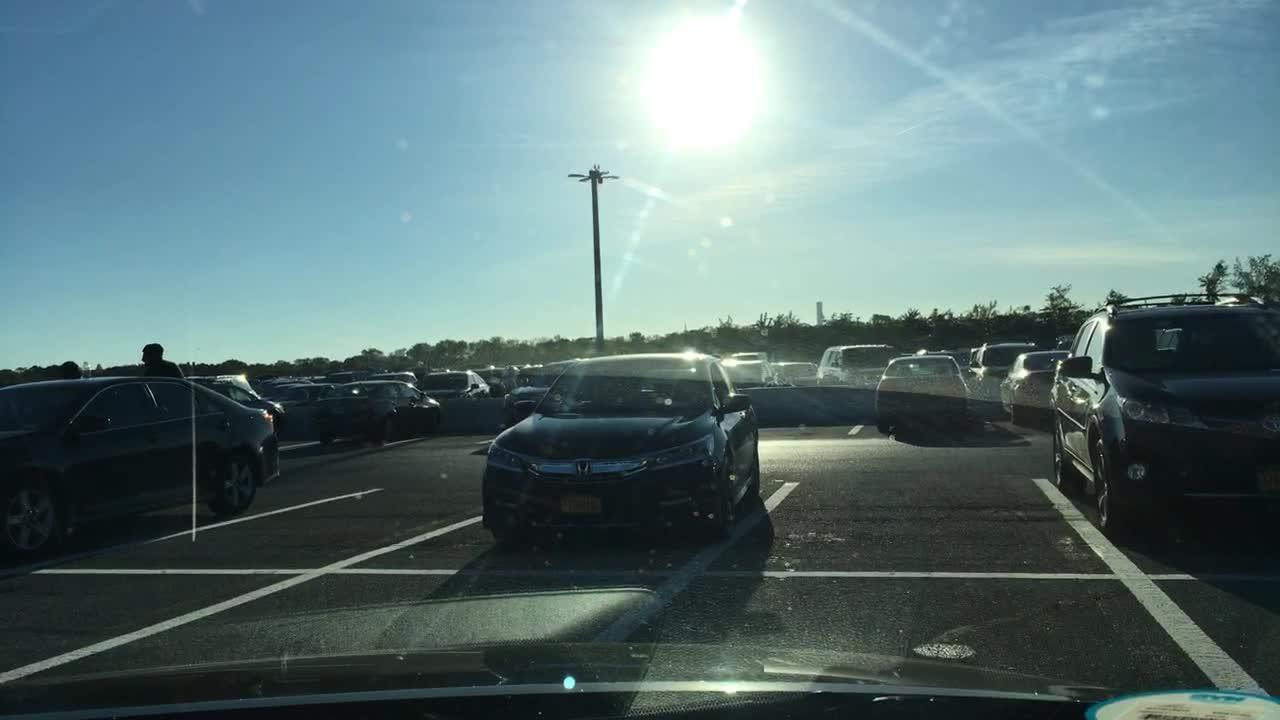Honda: (571, 455, 594, 482)
Toyota: (1254, 408, 1280, 439)
